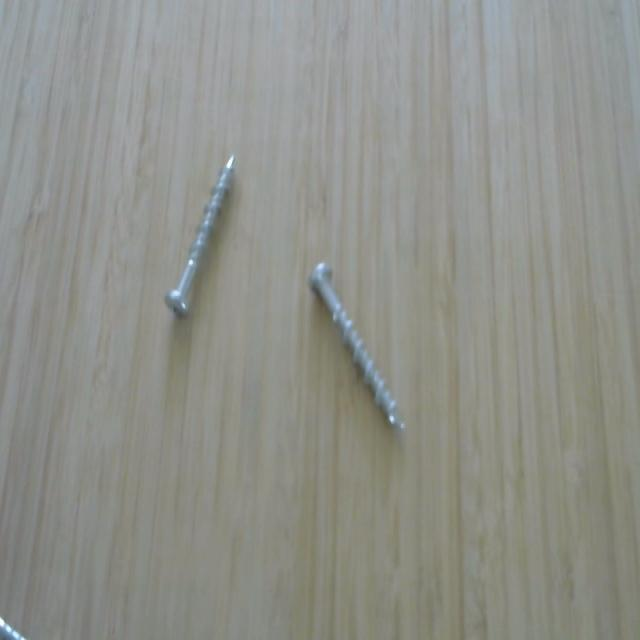Medium screw: (303, 250, 416, 449), (159, 142, 249, 327)
